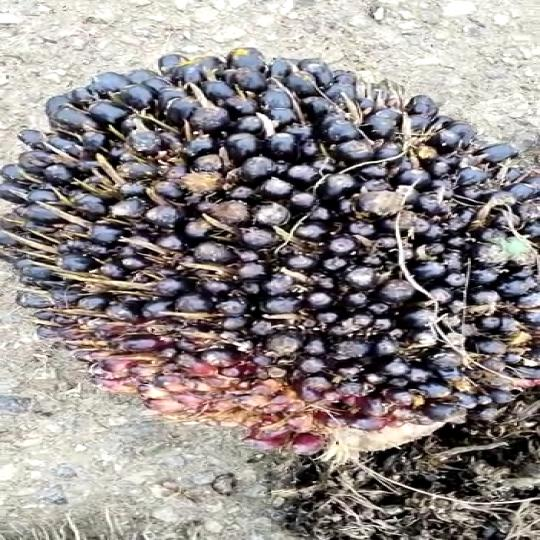mentah: (1, 41, 540, 468)
